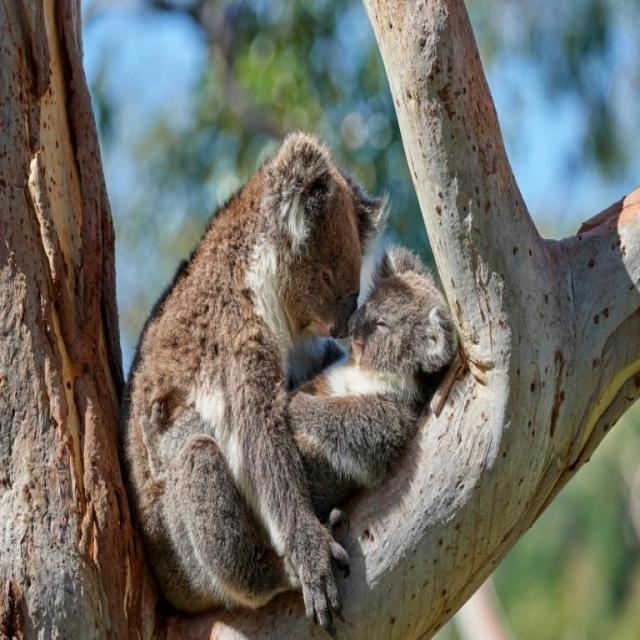koala: (122, 132, 387, 616), (292, 247, 458, 517)
